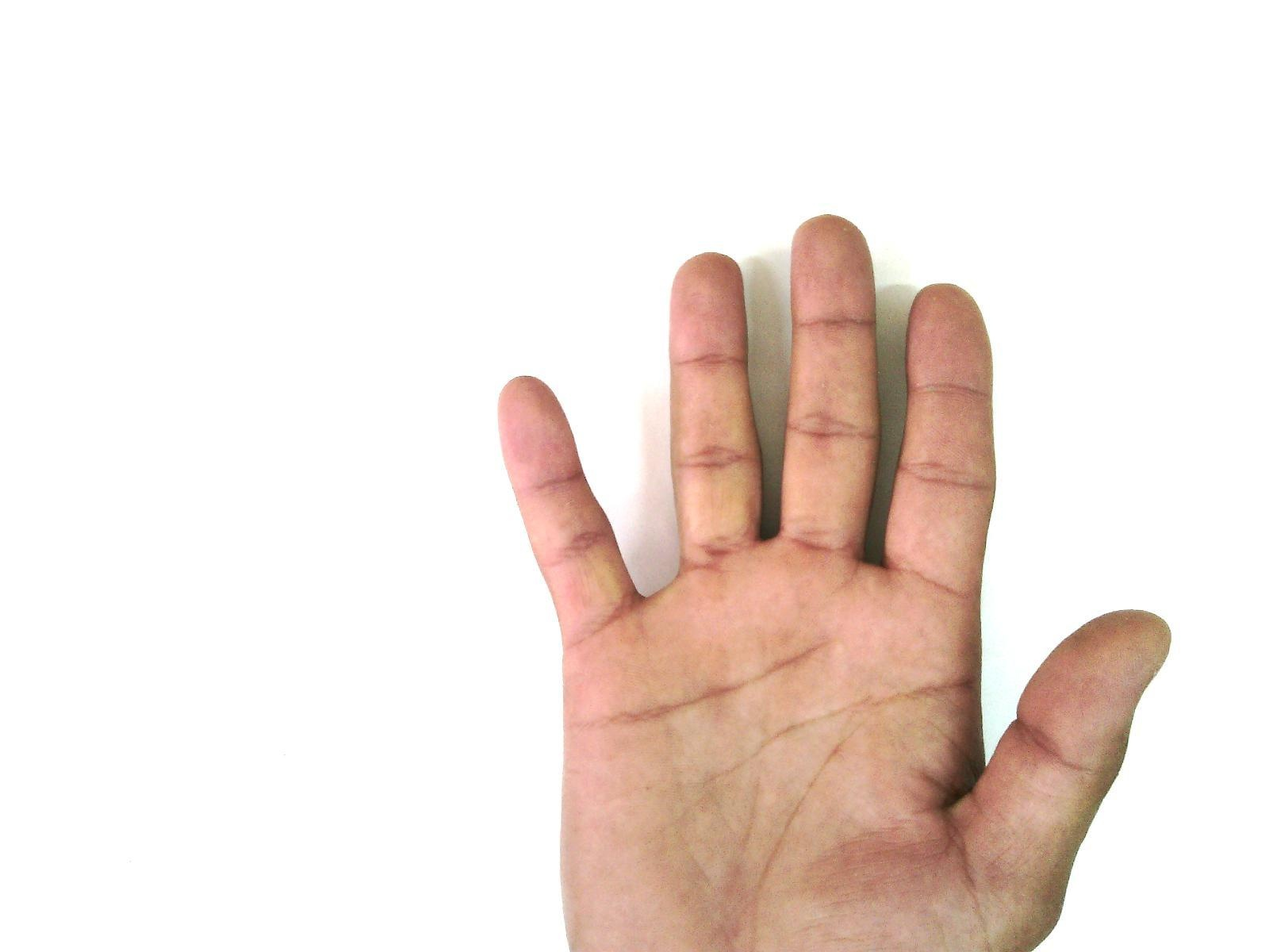open_palm: (494, 213, 1173, 951)
